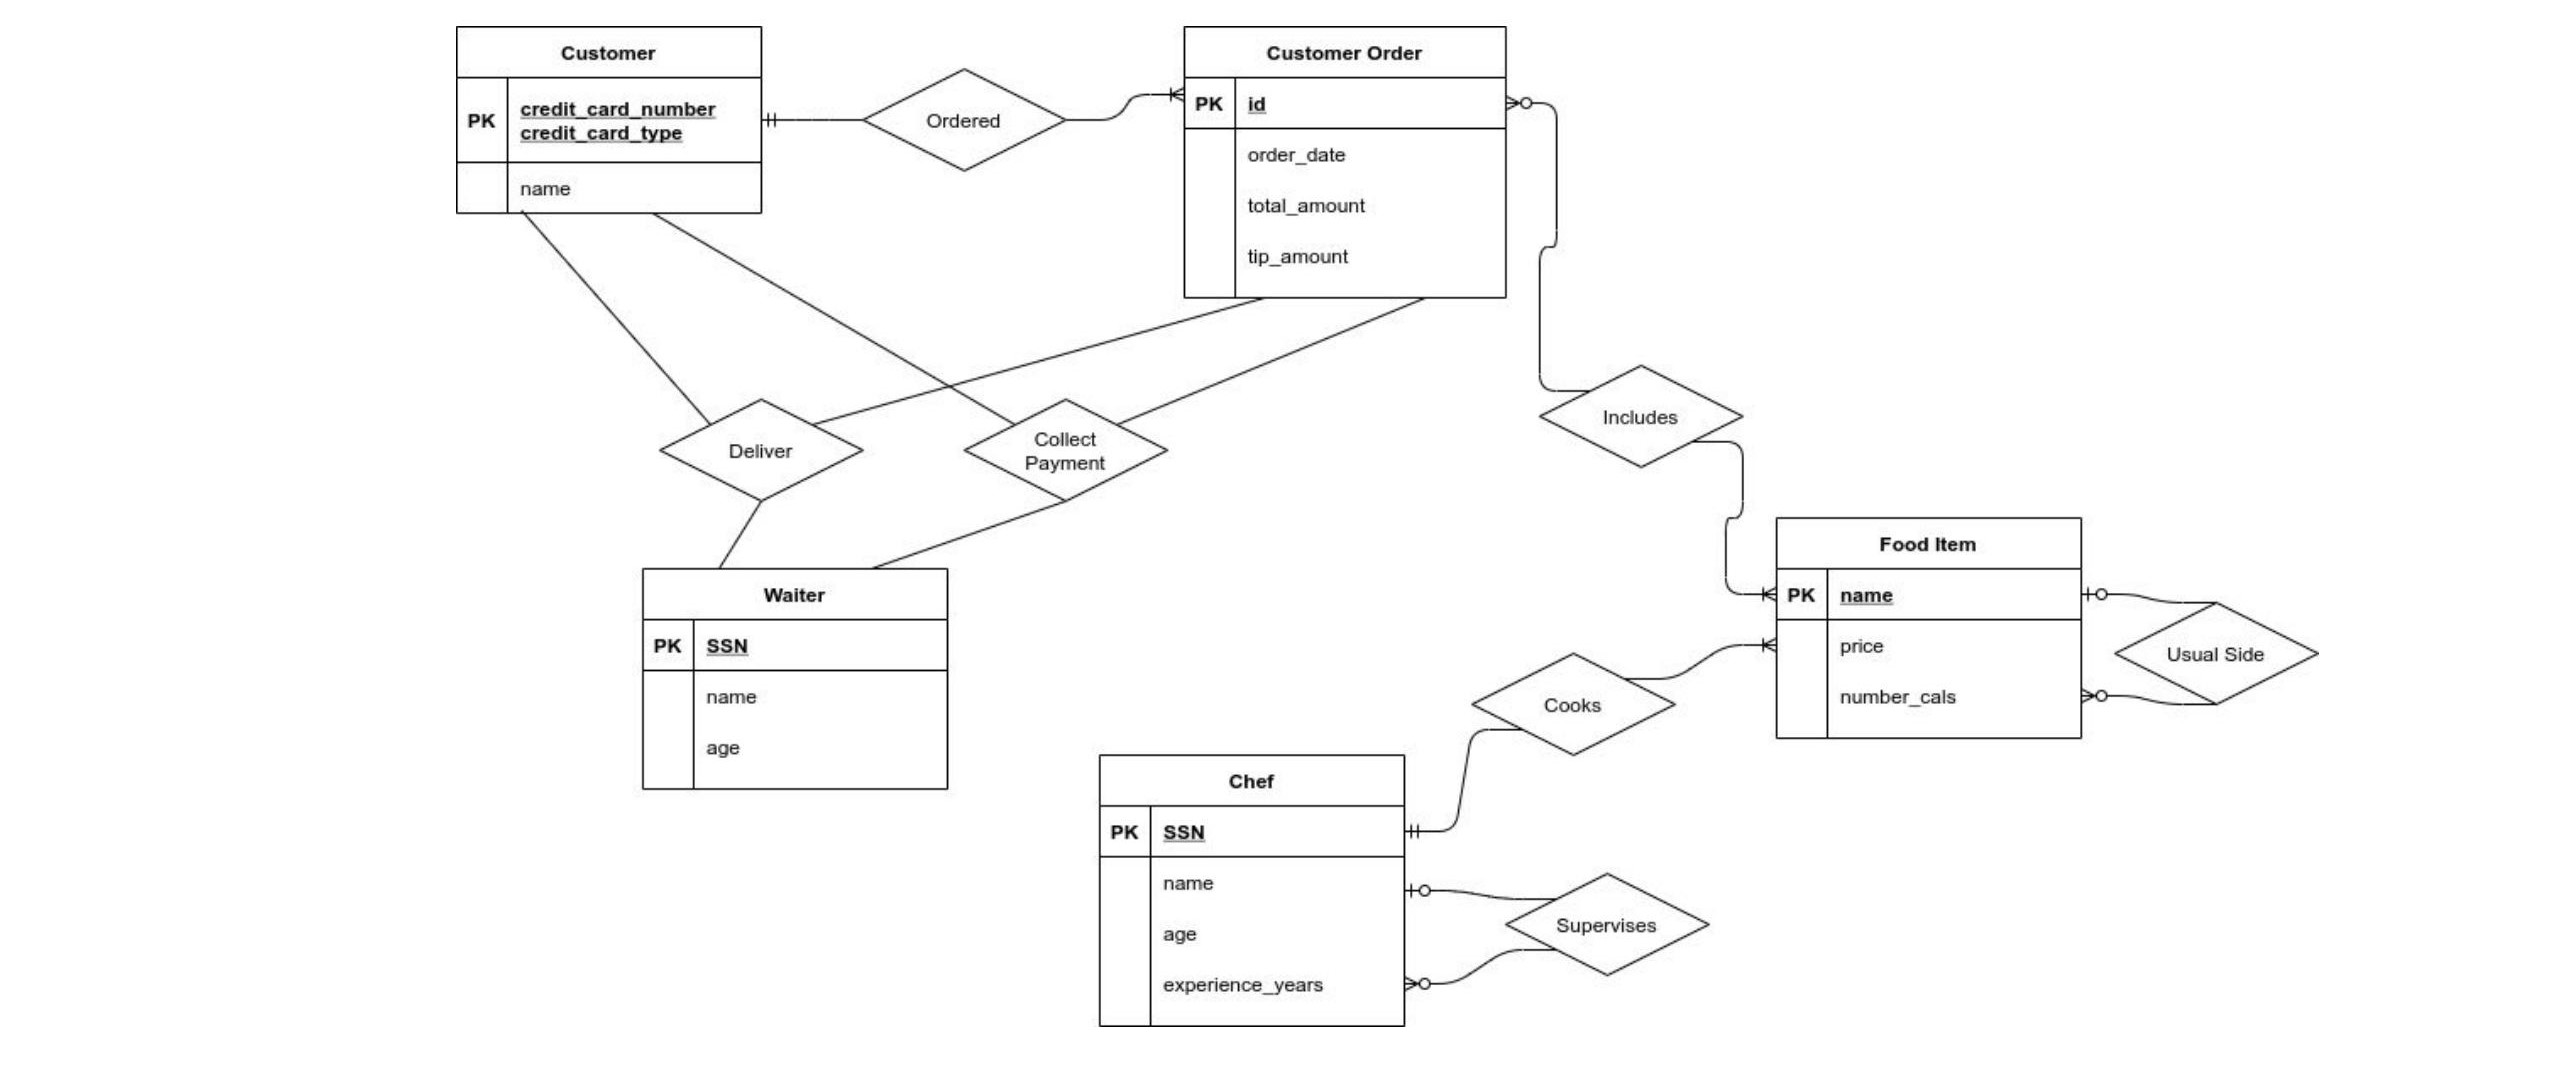Entity: (1181, 24, 1511, 301), (1098, 752, 1408, 1028), (1774, 516, 2083, 744), (641, 566, 950, 791), (455, 24, 764, 216)
Relationship: (2113, 600, 2321, 705), (659, 397, 864, 503), (1470, 652, 1677, 757), (963, 399, 1168, 503), (860, 67, 1065, 171), (1538, 364, 1743, 469), (1504, 874, 1709, 976)
